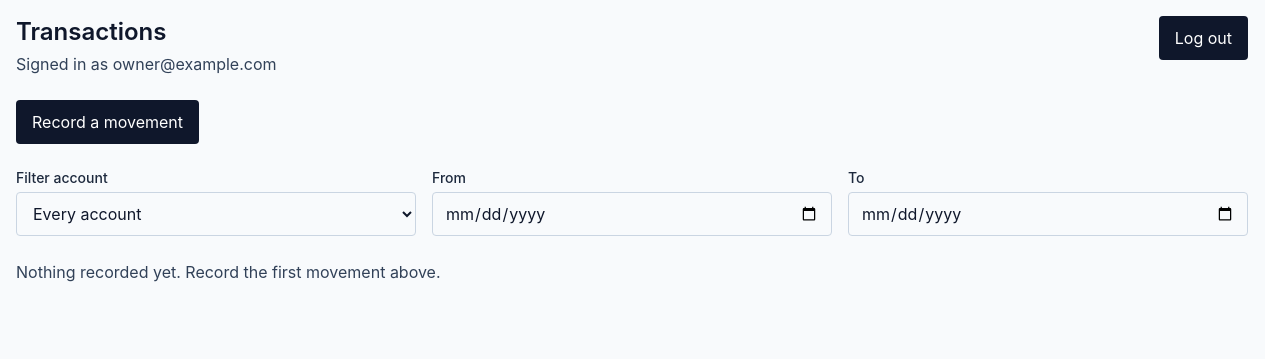
Test: TransactionsPage › says so when a filter matches nothing, and asks for that filter
The image size is (1265, 359).
Expected: the text "Nothing recorded yet. Record the first movement above." is shown, [16,262,441,282]
Select "SBI" in the dropdown labelled "Filter account" at (216, 214), box [16,192,416,236]
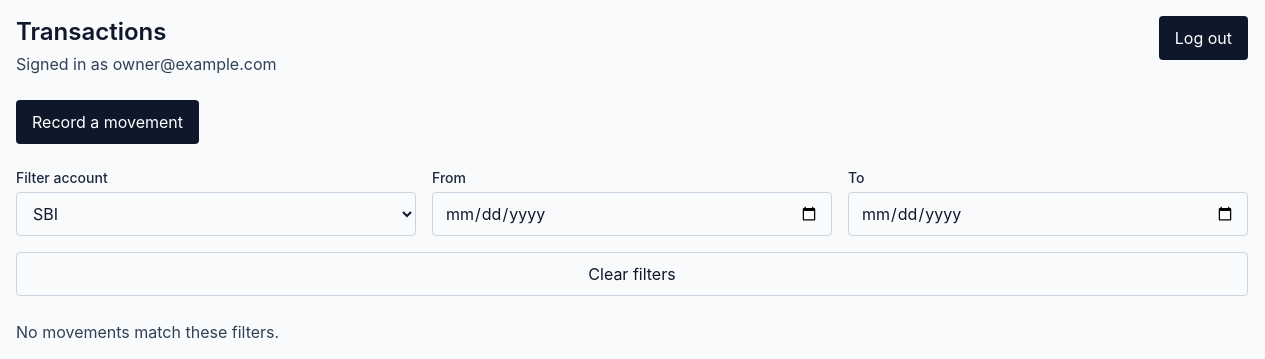
Expected: the text "No movements match these filters." is shown, [16,322,279,342]
